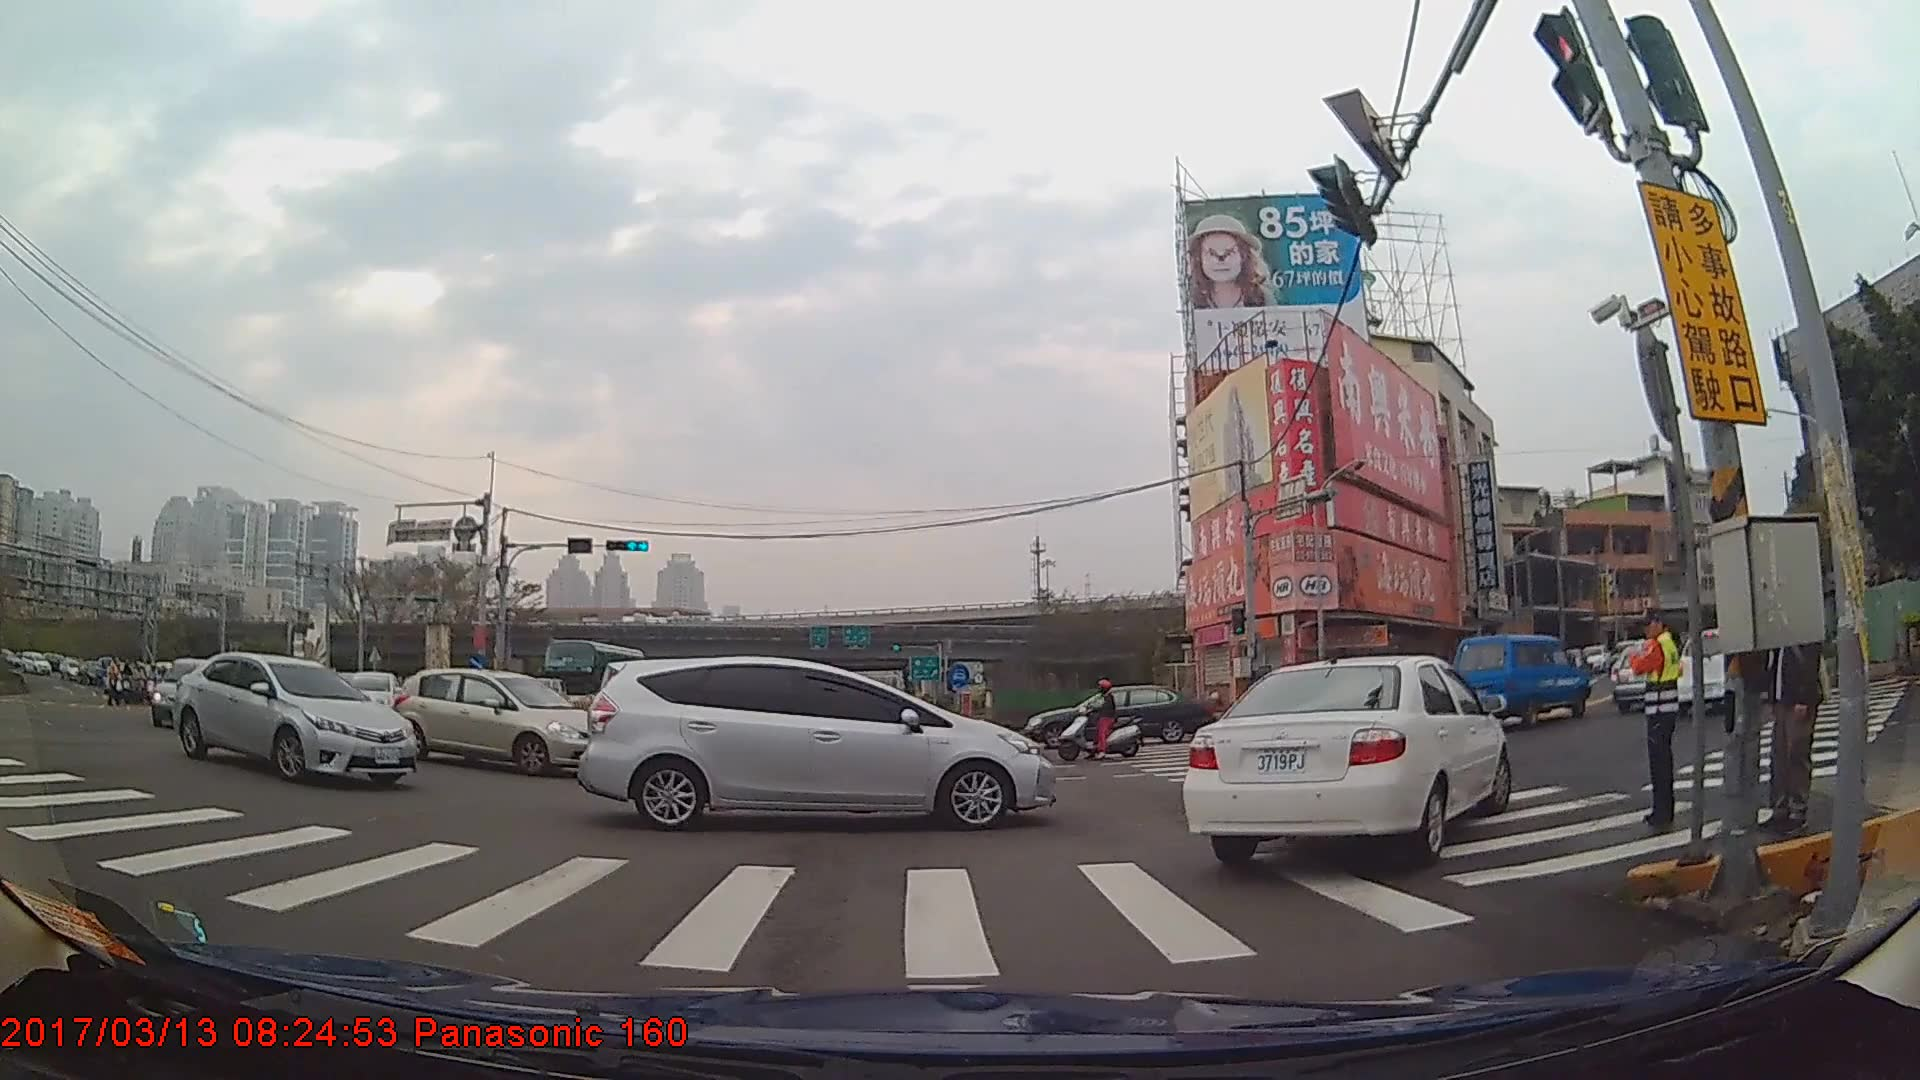pedestrian: (1742, 527, 1832, 843), (1626, 606, 1683, 834)
rider: (1059, 676, 1143, 764)
vehicle: (572, 655, 1056, 832), (1186, 648, 1509, 864), (167, 653, 415, 791), (387, 668, 601, 777), (1023, 682, 1217, 753), (1447, 630, 1590, 724)
